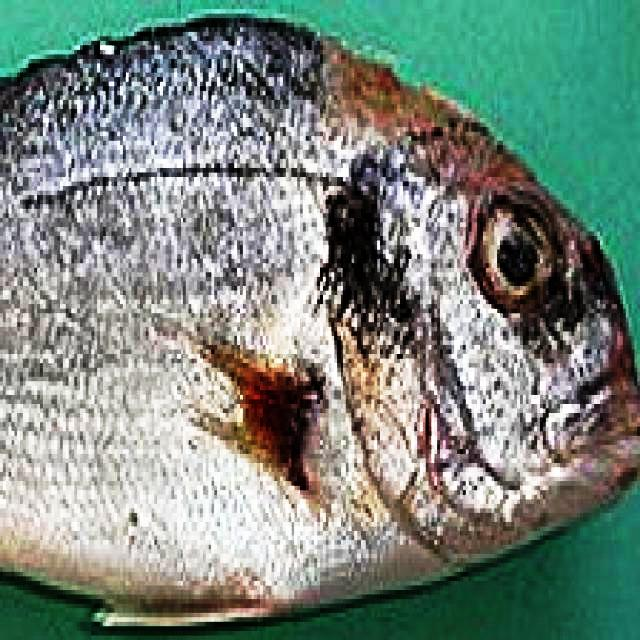Columnaris Disease: (0, 14, 639, 626)
